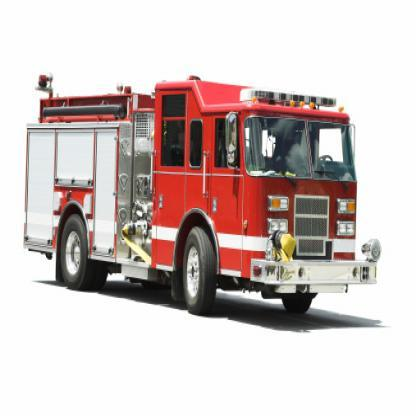fire-truck: (5, 62, 395, 374)
